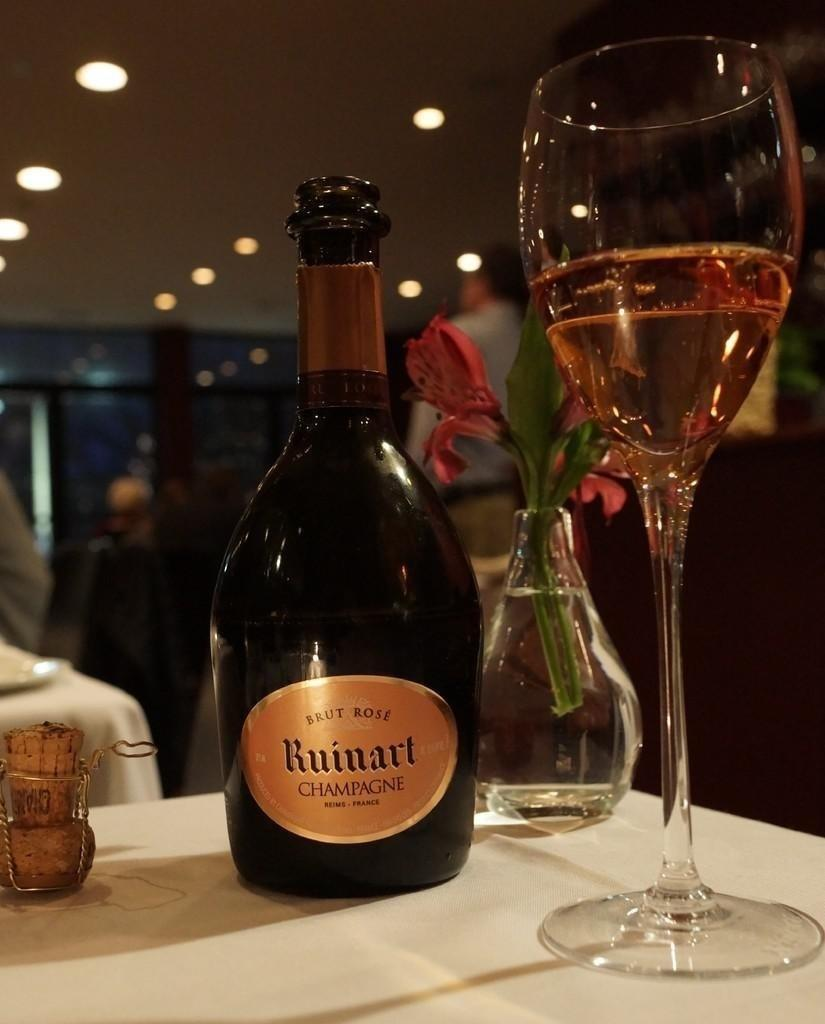bottle-glass: (217, 173, 487, 899)
glass-wine: (515, 37, 824, 977)
